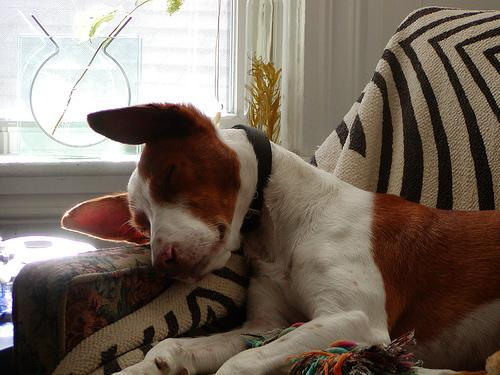Ibizan_hound: (60, 102, 499, 373)
